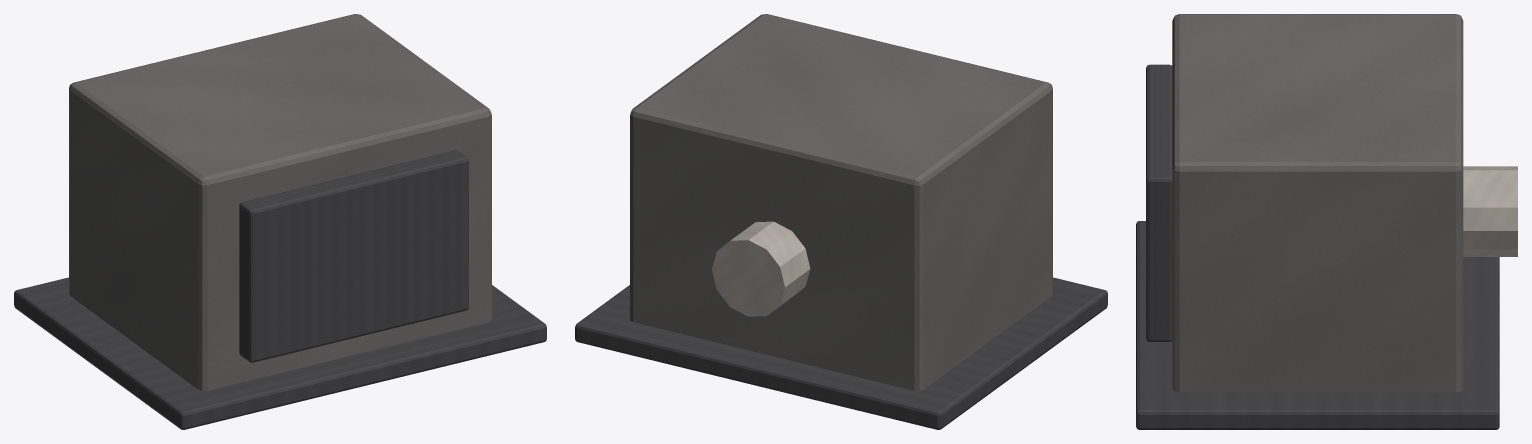
File: sensor_module.glb
3 renders of one model, left to right at view 1: azimuth 30°, elevation 25°; view 2: azimuth 150°, elevation 25°; view 3: azimuth 270°, elevation 25°, orthographic. The views are drawn at different scales.
Parts seen in each view (by area): view 1: sensor_body, sensor_face, mounting_plate; view 2: sensor_body, mounting_plate, connector.035; view 3: sensor_body, mounting_plate, sensor_face, connector.035.
Part boxes in pixels (box(x1,y1,x2,y2)): sensor_body: box(69, 14, 491, 390); sensor_face: box(239, 150, 468, 362); mounting_plate: box(14, 277, 546, 429); sensor_body: box(630, 14, 1052, 390); mounting_plate: box(575, 277, 1107, 429); connector.035: box(712, 221, 810, 316); sensor_body: box(1172, 14, 1463, 392); mounting_plate: box(1136, 221, 1499, 429); sensor_face: box(1146, 64, 1172, 341); connector.035: box(1463, 166, 1517, 256).
Size of the model in its own units: 0.25 by 0.15 by 0.21.
3 materials, 3 textured.
